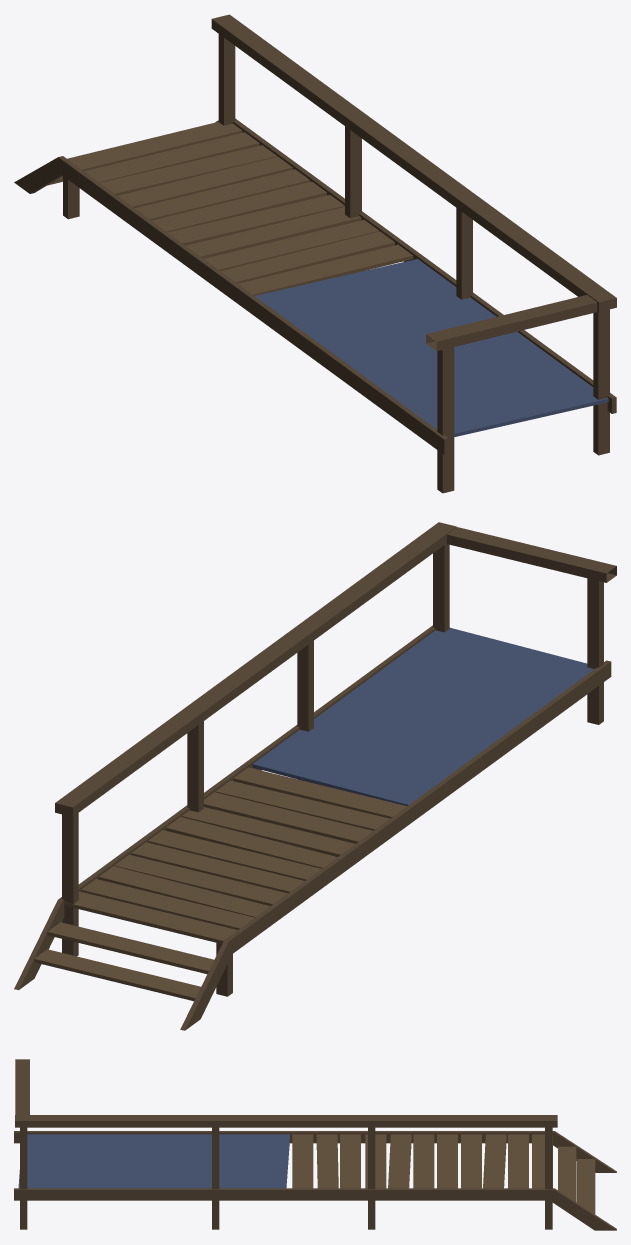
The model's file is SM_stairsRamp_02.glb.
3 renders of one model, top to bottom at view 1: azimuth 30°, elevation 25°; view 2: azimuth 150°, elevation 25°; view 3: azimuth 270°, elevation 25°, orthographic. The views are drawn at different scales.
Visible parts, largest first — view 1: SM_stairsRamp_02; view 2: SM_stairsRamp_02; view 3: SM_stairsRamp_02.
Boxes of the visible parts, left/top/right/bottom form: SM_stairsRamp_02: left=14, top=14, right=616, bottom=493; SM_stairsRamp_02: left=14, top=522, right=616, bottom=1030; SM_stairsRamp_02: left=14, top=1059, right=616, bottom=1230.
Bounding box in the file's own units: 1.87 × 1.55 × 7.74.
Materials: 1 (1 with a texture image).
